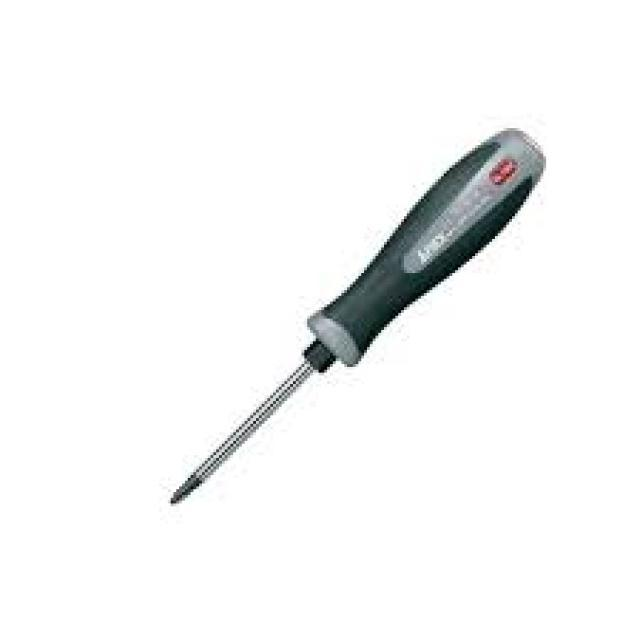screwdriver: (162, 127, 552, 510)
